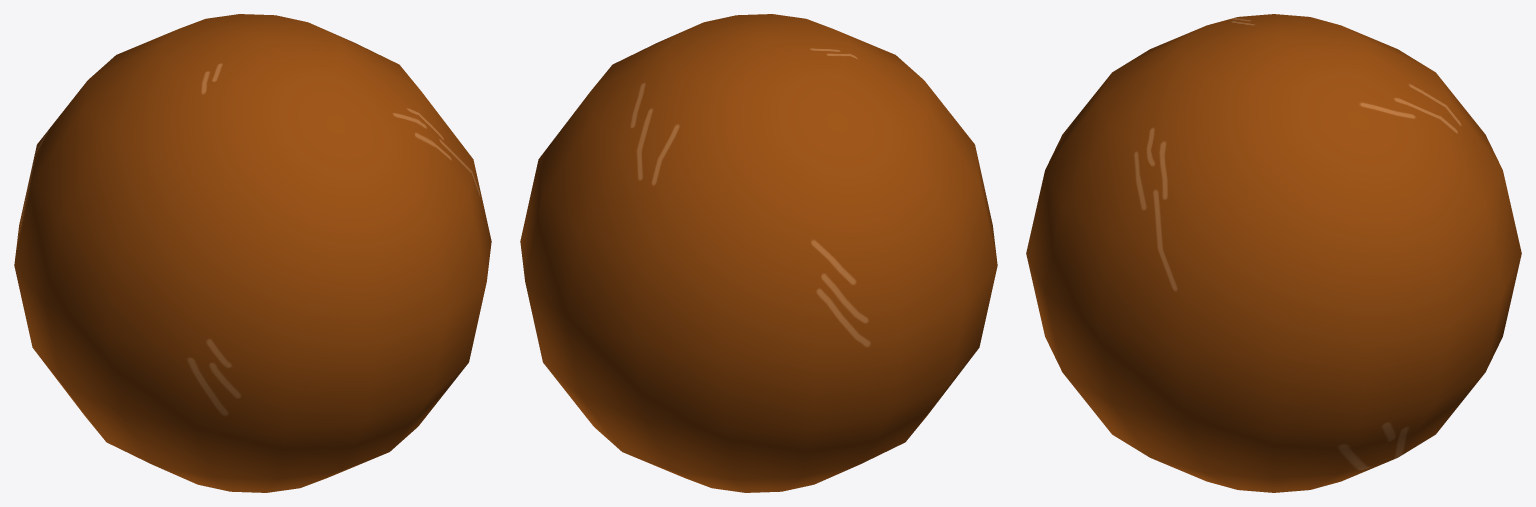
File: Nkomo.fbx
3 renders of one model, left to right at view 1: azimuth 30°, elevation 25°; view 2: azimuth 150°, elevation 25°; view 3: azimuth 270°, elevation 25°, orthographic.
Visible parts, largest first — view 1: Sphere; view 2: Sphere; view 3: Sphere.
Boxes of the visible parts, bbox=[...] form: Sphere: bbox=[14, 14, 491, 492]; Sphere: bbox=[520, 14, 997, 492]; Sphere: bbox=[1026, 14, 1521, 492].
Size of the model in its own units: 163 by 163 by 169.
